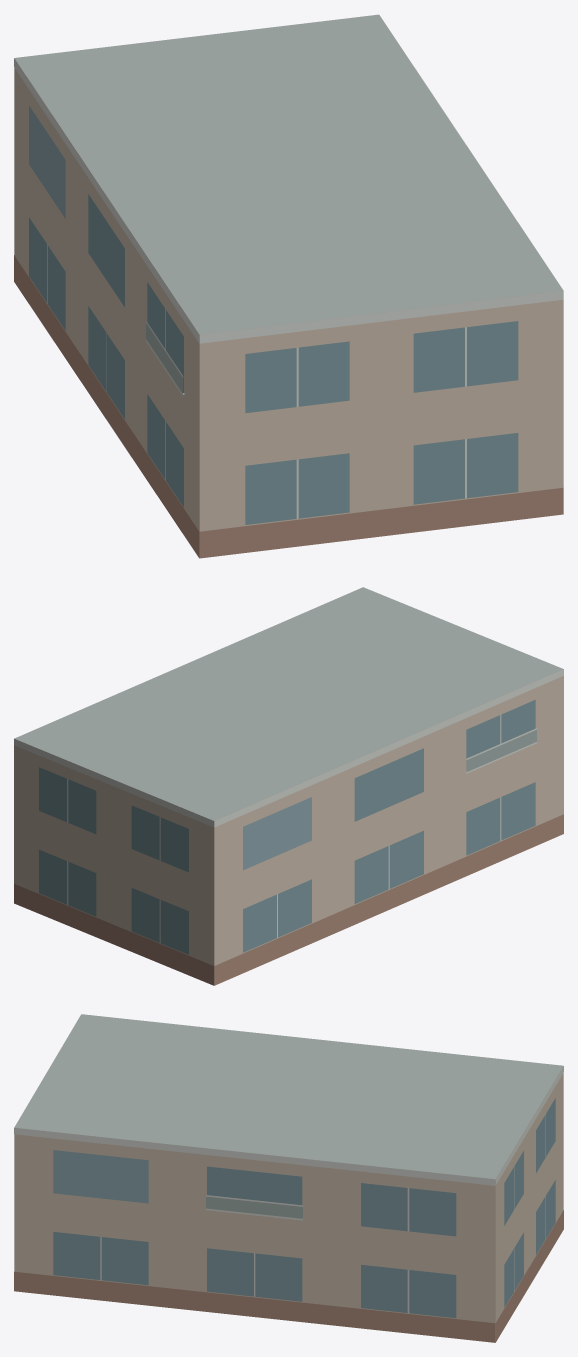
Rendered from survey-upis-32943432.glb.
3 views of the same model, one above another, from view 1: azimuth 30°, elevation 25°; view 2: azimuth 150°, elevation 25°; view 3: azimuth 270°, elevation 25° (orthographic). The views are drawn at different scales.
Visible parts, largest first — view 1: survey-upis-32943432.tmp; view 2: survey-upis-32943432.tmp; view 3: survey-upis-32943432.tmp.
Boxes of the visible parts, bbox=[...] form: survey-upis-32943432.tmp: bbox=[14, 14, 563, 558]; survey-upis-32943432.tmp: bbox=[14, 587, 563, 985]; survey-upis-32943432.tmp: bbox=[14, 1014, 563, 1342].
Size of the model in its own units: 13.22 by 6.1 by 18.59.
